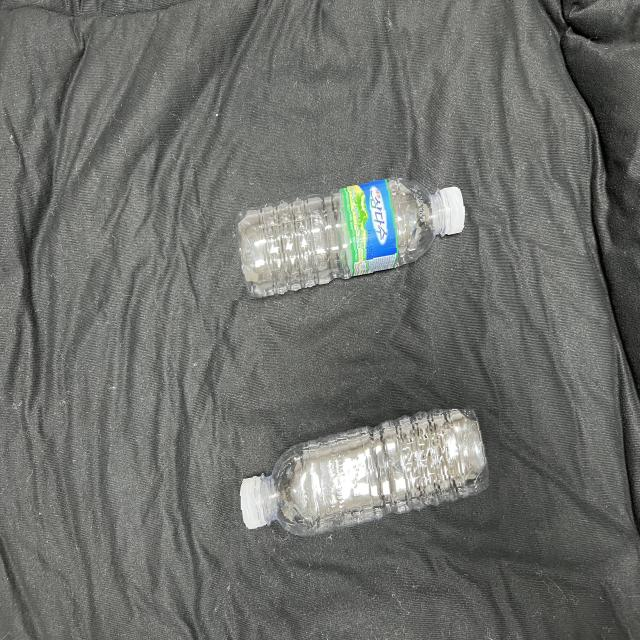plastic bottle: (227, 409, 499, 560), (223, 168, 479, 300)
